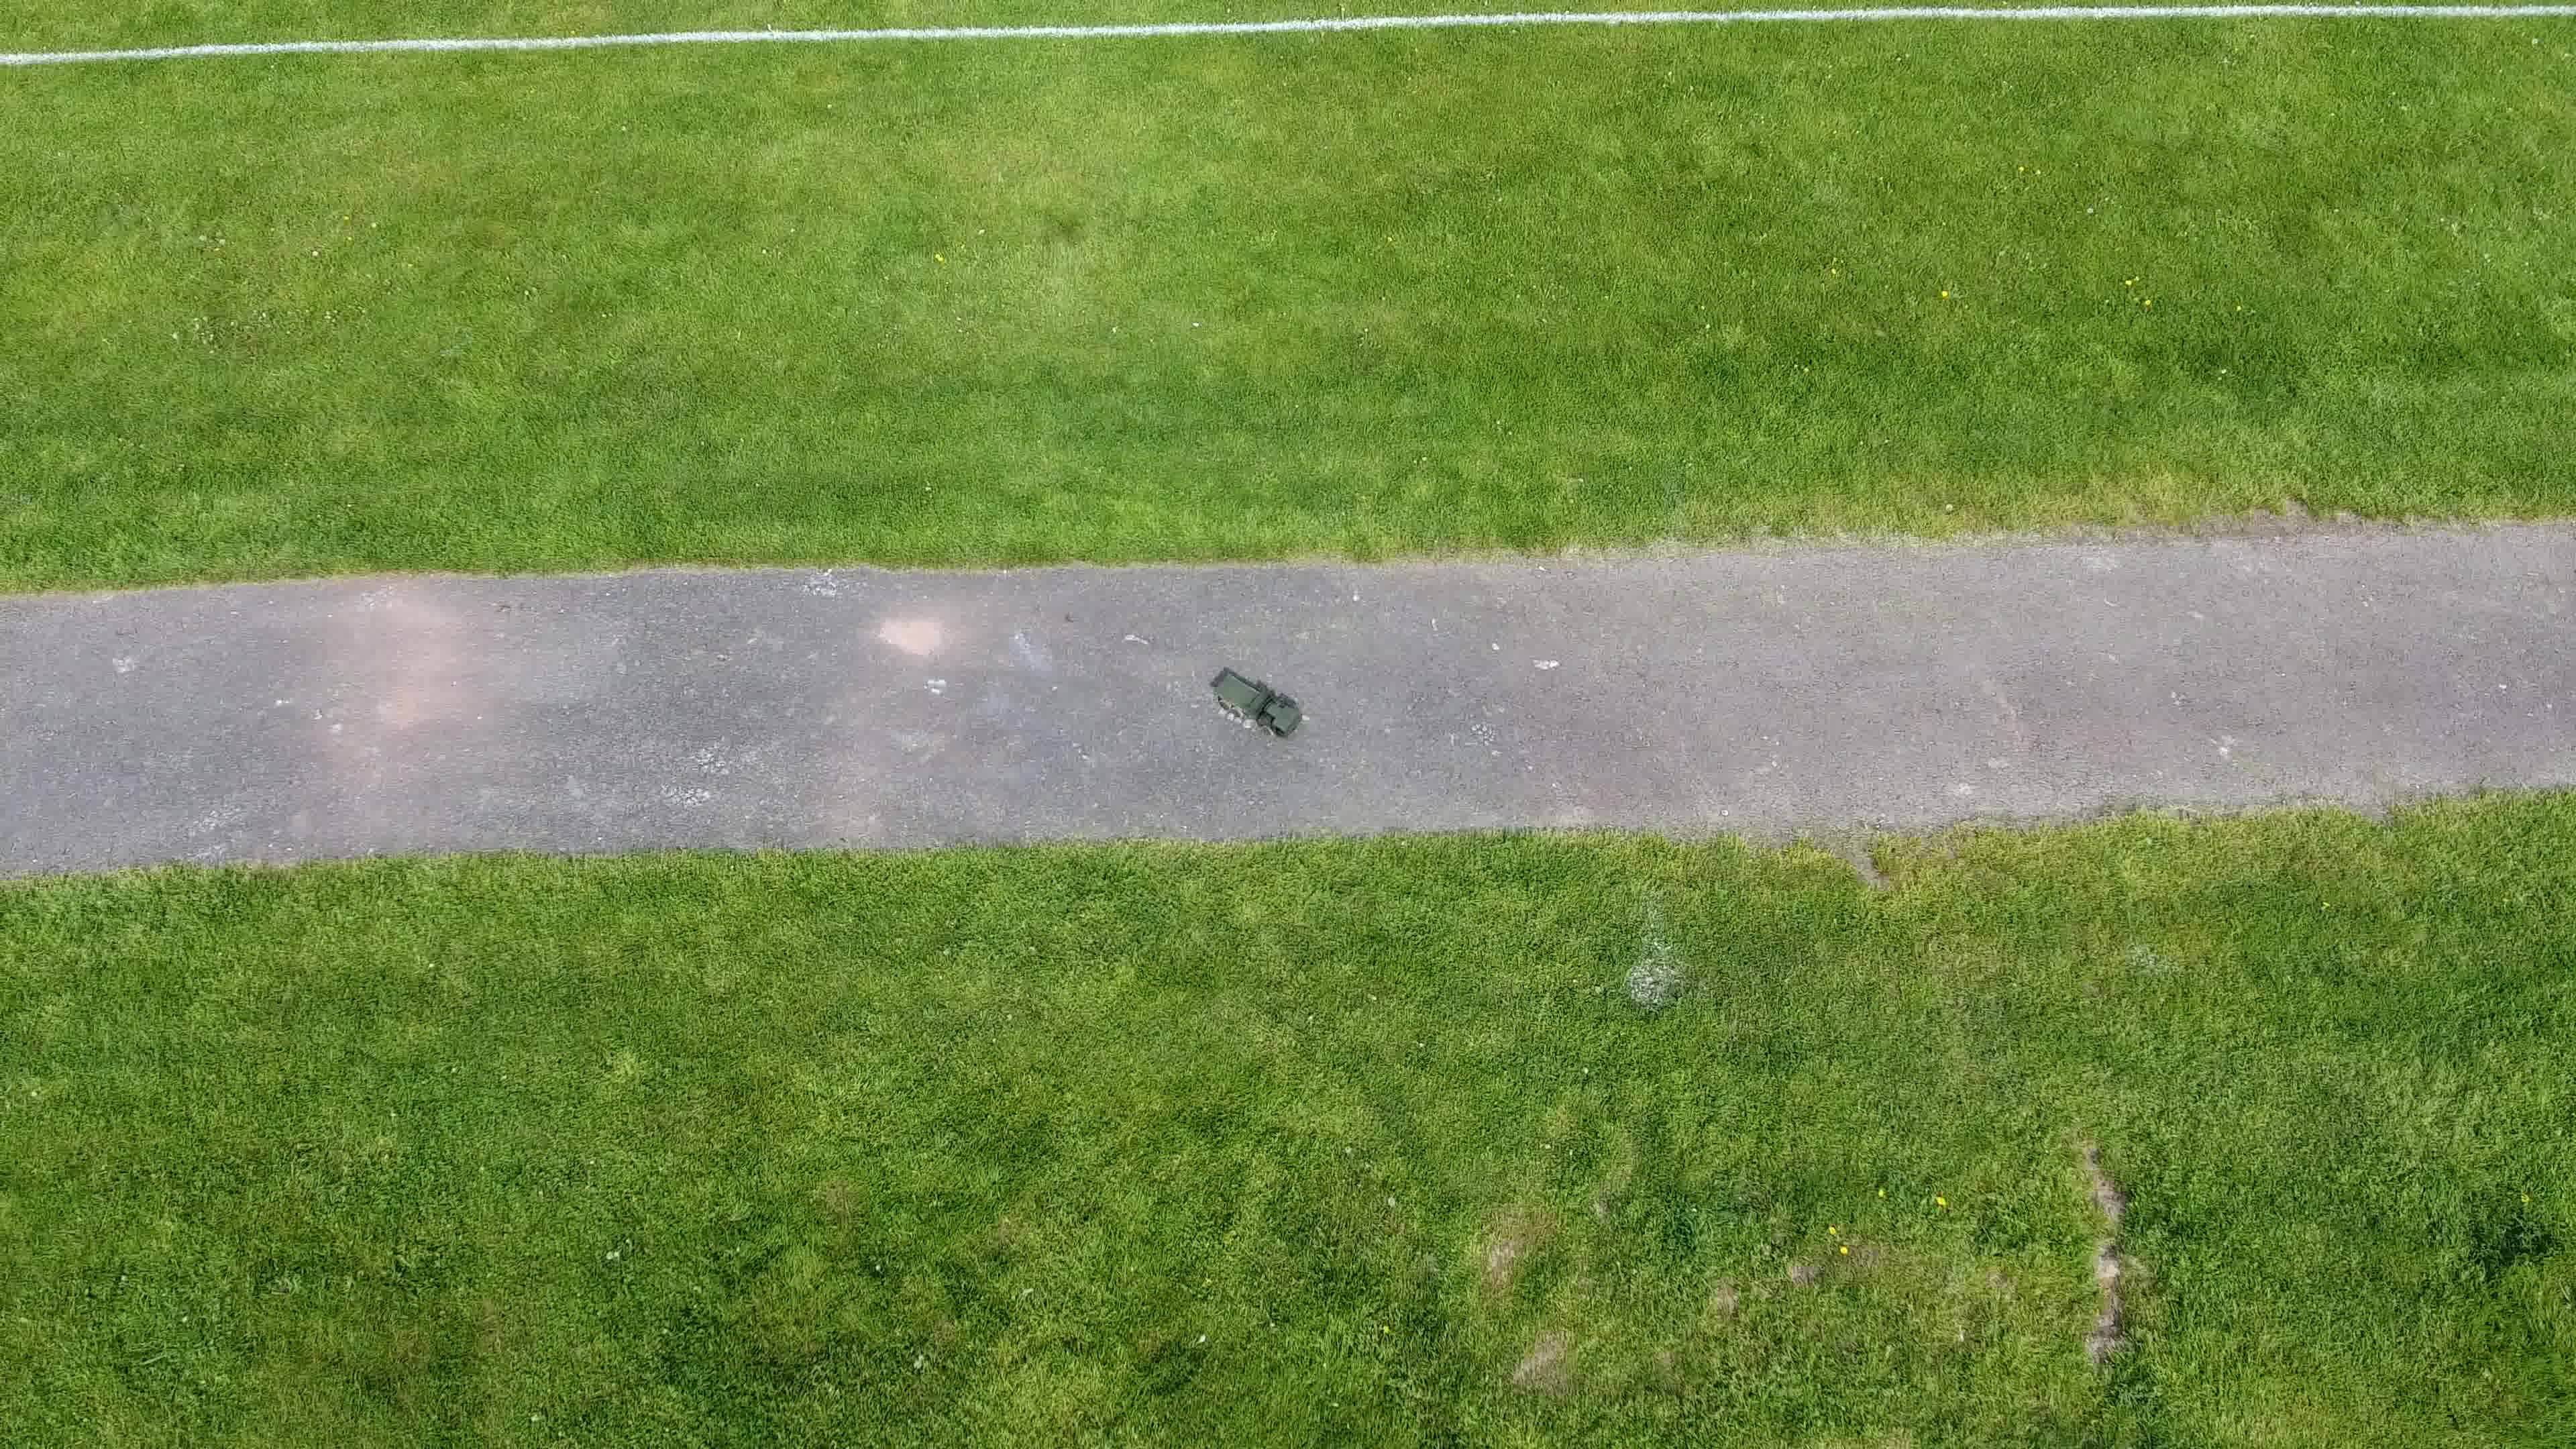transporter9: (1210, 665, 1307, 743)
